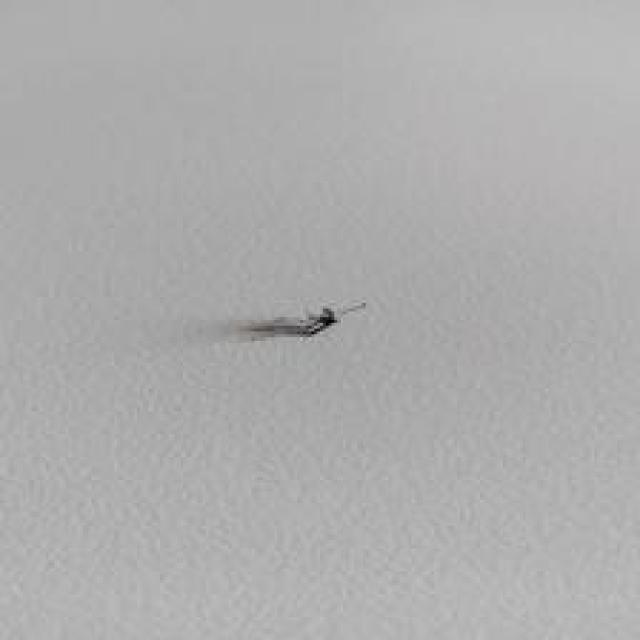Aedes albopictus: (242, 298, 367, 342)
